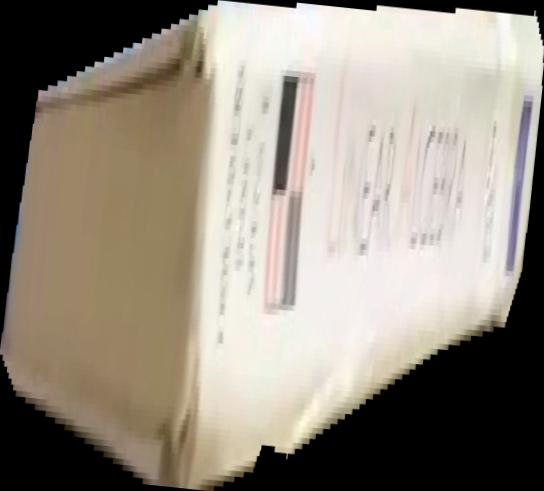flat: (1, 1, 544, 491)
